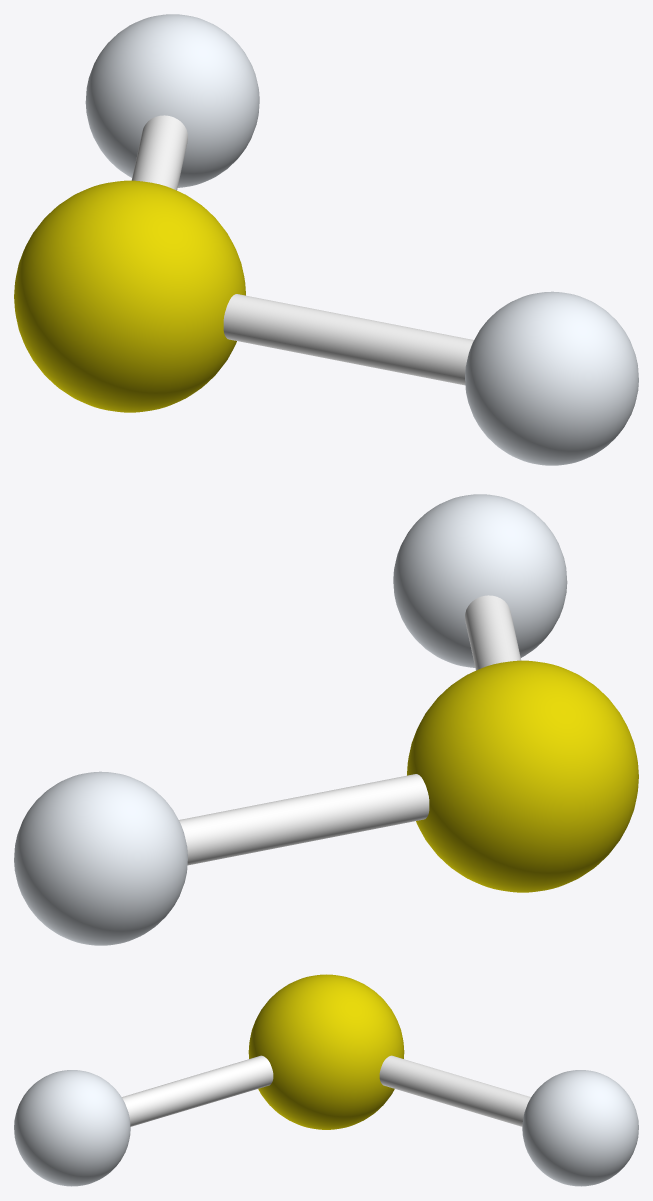
File: hydrogen_sulfide.fbx
3 views of the same model, one above another, from view 1: azimuth 30°, elevation 25°; view 2: azimuth 150°, elevation 25°; view 3: azimuth 270°, elevation 25° (orthographic). The views are drawn at different scales.
Parts seen in each view (by area): view 1: hydrogen_sulfide; view 2: hydrogen_sulfide; view 3: hydrogen_sulfide.
Part boxes in pixels (x1,y1,x2,y2): hydrogen_sulfide: (14,14,638,465); hydrogen_sulfide: (14,494,638,945); hydrogen_sulfide: (14,974,638,1186).
Bounding box in the file's own units: 81.18 × 40 × 161.
